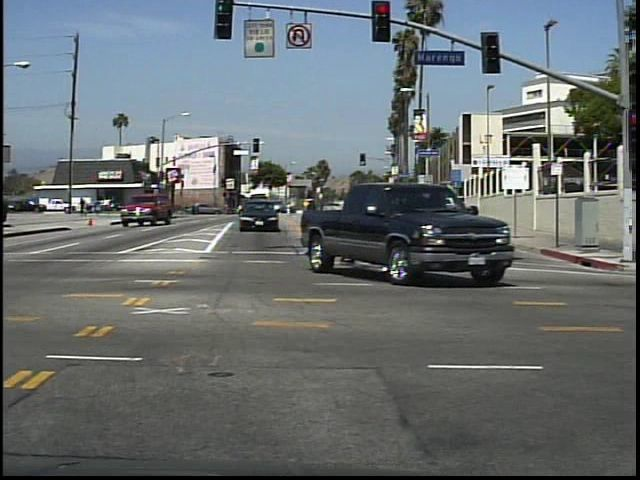person: (79, 194, 93, 219)
